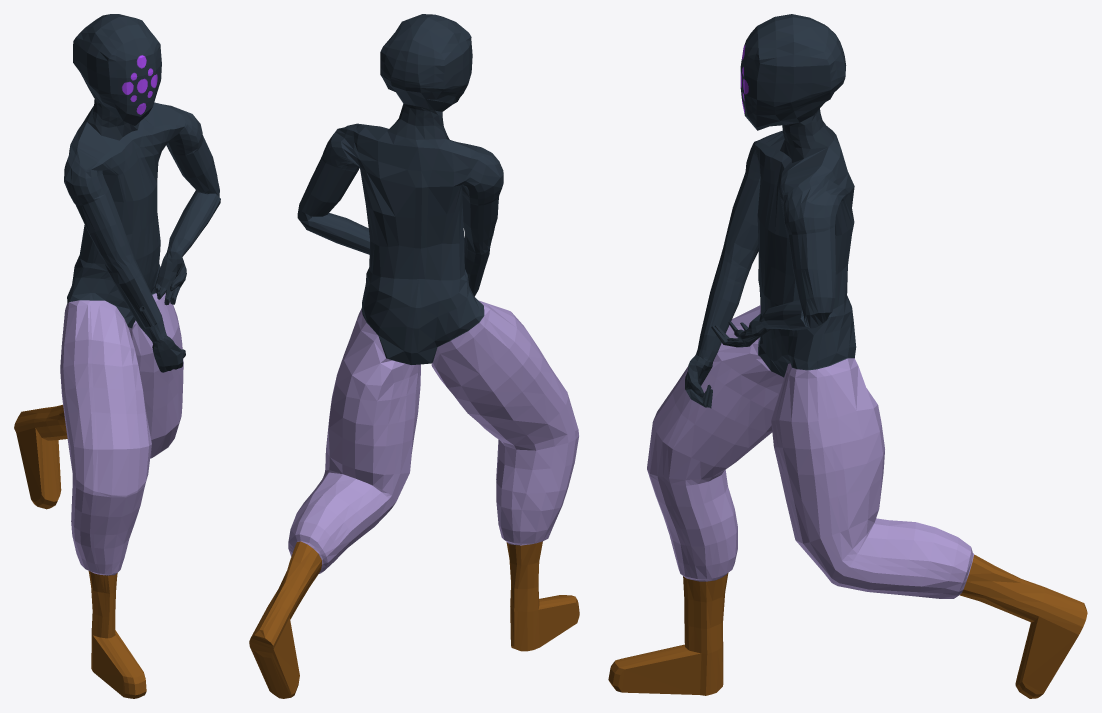
Rendered from Oracle_Run_000014.obj.
3 renders of one model, left to right at view 1: azimuth 30°, elevation 25°; view 2: azimuth 150°, elevation 25°; view 3: azimuth 270°, elevation 25°, orthographic. The views are drawn at different scales.
Visible parts, largest first — view 1: Cube; view 2: Cube; view 3: Cube.
Boxes of the visible parts, x1,y1,x2,y2 form: Cube: (14, 14, 220, 698); Cube: (249, 14, 579, 698); Cube: (608, 14, 1087, 698).
Bounding box in the file's own units: 1.29 × 3.73 × 2.3.
